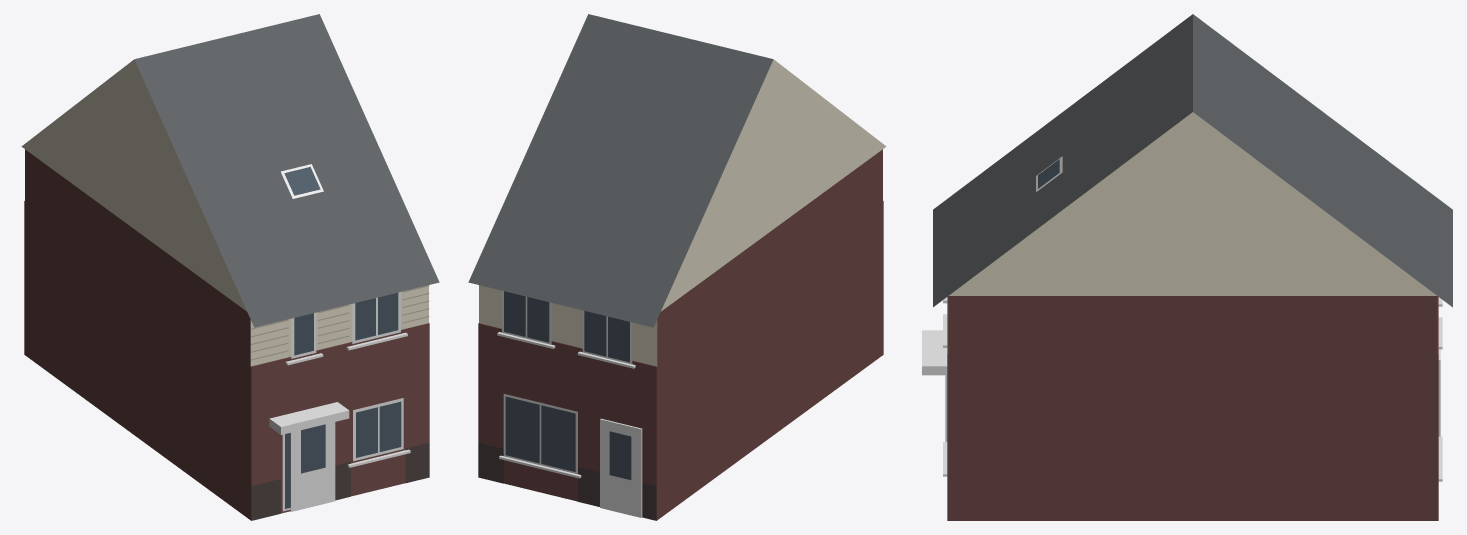
Rendered from th-gk-row__hood__2__gable__long__solid__f0d1__mirror.glb.
The picture shows the model from 3 angles, left to right: view 1: azimuth 30°, elevation 25°; view 2: azimuth 150°, elevation 25°; view 3: azimuth 270°, elevation 25°; orthographic projection. The views are drawn at different scales.
Parts seen in each view (by area): view 1: th-gk-row__hood__2__gable__long__solid__f0d1__mirror; view 2: th-gk-row__hood__2__gable__long__solid__f0d1__mirror; view 3: th-gk-row__hood__2__gable__long__solid__f0d1__mirror.
Boxes of the visible parts, <box> form: th-gk-row__hood__2__gable__long__solid__f0d1__mirror: <box>21,14,439,520</box>; th-gk-row__hood__2__gable__long__solid__f0d1__mirror: <box>468,14,886,520</box>; th-gk-row__hood__2__gable__long__solid__f0d1__mirror: <box>922,14,1452,520</box>.
Bounding box in the file's own units: 5.29 × 10.35 × 12.12.
